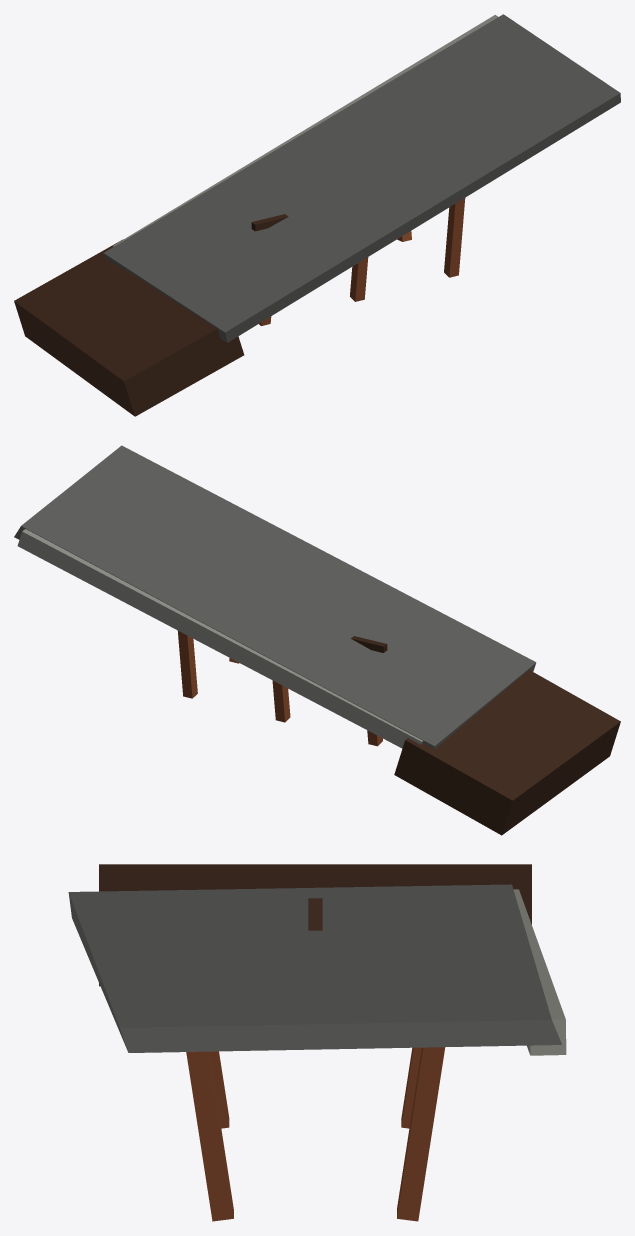
File: wing_shard.glb
3 renders of one model, top to bottom at view 1: azimuth 30°, elevation 25°; view 2: azimuth 150°, elevation 25°; view 3: azimuth 270°, elevation 25°, orthographic. The views are drawn at different scales.
Parts seen in each view (by area): view 1: wing_shard; view 2: wing_shard; view 3: wing_shard.
Part boxes in pixels (left/top/right/bottom): wing_shard: left=14, top=14, right=620, bottom=416; wing_shard: left=14, top=445, right=620, bottom=835; wing_shard: left=68, top=864, right=566, bottom=1221.
Bounding box in the file's own units: 15.89 × 6.03 × 6.9.
